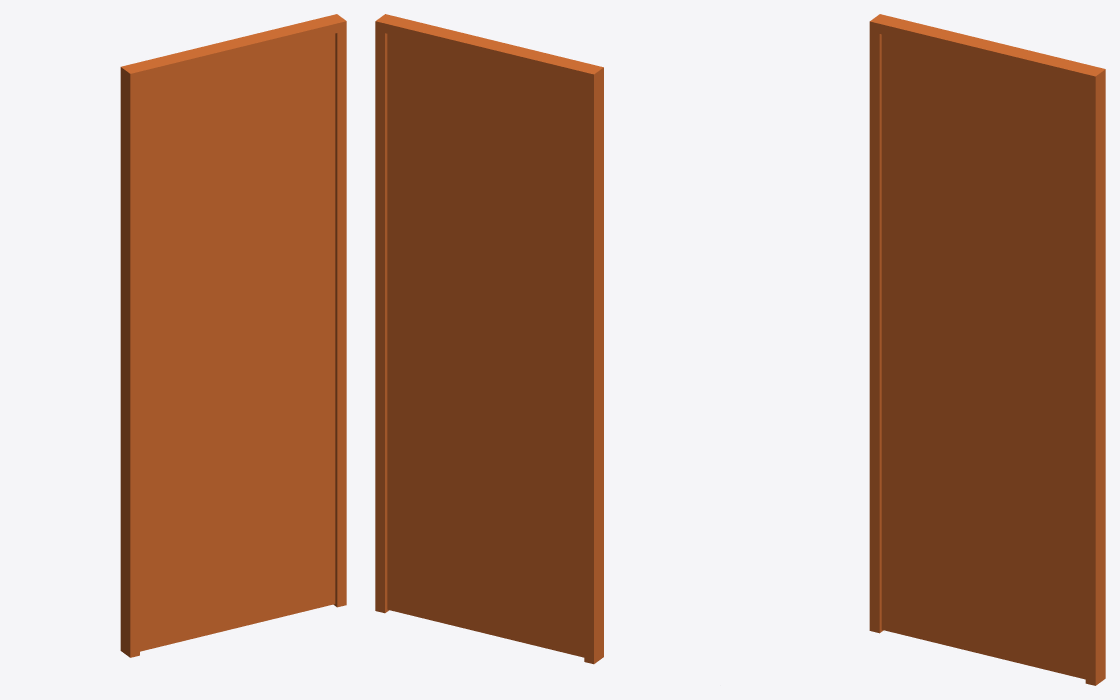
The model's file is DoorFrame.fbx.
3 renders of one model, left to right at view 1: azimuth 30°, elevation 25°; view 2: azimuth 150°, elevation 25°; view 3: azimuth 330°, elevation 25°, orthographic. The views are drawn at different scales.
Parts seen in each view (by area): view 1: Door.1, Door-frame.1; view 2: Door.1, Door-frame.1; view 3: Door.1, Door-frame.1.
Boxes of the visible parts, x1,y1,x2,y2 form: Door.1: (140, 33, 335, 651); Door-frame.1: (120, 14, 346, 657); Door.1: (387, 34, 584, 657); Door-frame.1: (375, 14, 603, 664); Door.1: (881, 34, 1085, 679); Door-frame.1: (869, 14, 1105, 685).
Size of the model in its own units: 146 by 246 by 7.44.
